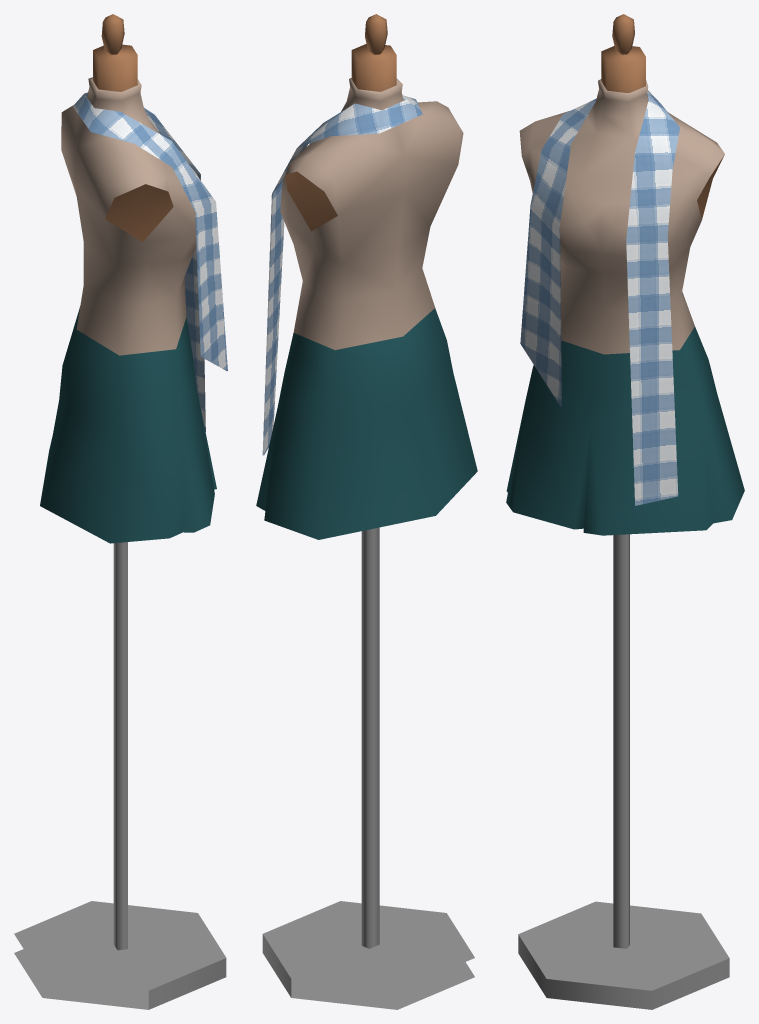
Rendered from interior_D_003.fbx.
3 renders of one model, left to right at view 1: azimuth 30°, elevation 25°; view 2: azimuth 150°, elevation 25°; view 3: azimuth 270°, elevation 25°, orthographic.
Parts seen in each view (by area): view 1: interior_D_003; view 2: interior_D_003; view 3: interior_D_003.
Part boxes in pixels (left/top/right/bottom): interior_D_003: left=14, top=14, right=227, bottom=1009; interior_D_003: left=256, top=14, right=477, bottom=1009; interior_D_003: left=506, top=14, right=744, bottom=1009.
Bounding box in the file's own units: 31.85 × 158 × 35.98.
Materials: 5 (1 with a texture image).
